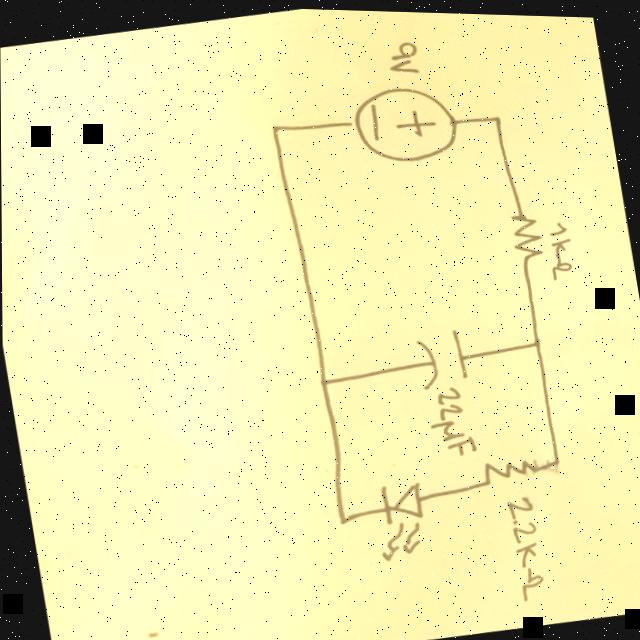capacitor: (411, 325, 475, 389)
diode: (370, 472, 437, 561)
junction: (314, 368, 336, 388), (486, 107, 507, 124), (334, 507, 354, 523), (267, 118, 288, 133), (527, 333, 545, 348), (549, 450, 565, 466)
resistor: (503, 202, 550, 267), (481, 450, 538, 486)
source: (348, 73, 462, 169)
text: (501, 486, 552, 601), (422, 377, 480, 459), (540, 213, 580, 278), (383, 32, 428, 73)
